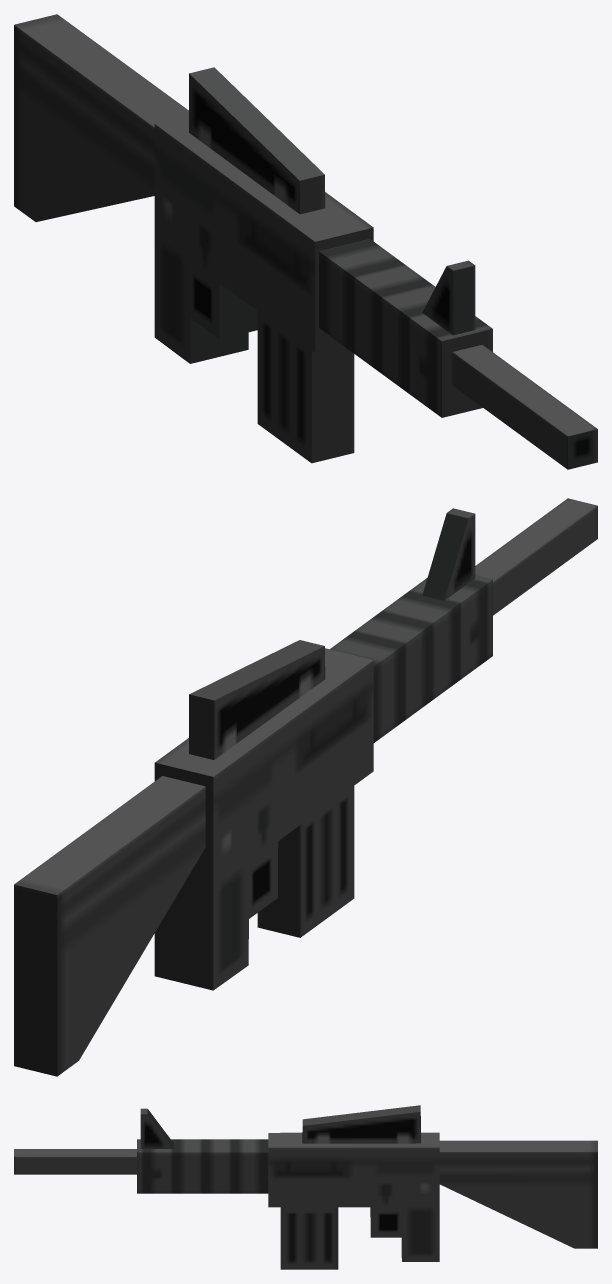
Rendered from SM_Wep_M5_01.fbx.
3 views of the same model, one above another, from view 1: azimuth 30°, elevation 25°; view 2: azimuth 150°, elevation 25°; view 3: azimuth 270°, elevation 25° (orthographic). The views are drawn at different scales.
Visible parts, largest first — view 1: SM_Wep_M5_01; view 2: SM_Wep_M5_01; view 3: SM_Wep_M5_01.
Boxes of the visible parts, x1=… form: SM_Wep_M5_01: x1=14, y1=14, x2=597, y2=469; SM_Wep_M5_01: x1=14, y1=498, x2=597, y2=1076; SM_Wep_M5_01: x1=14, y1=1105, x2=597, y2=1269.
Bounding box in the file's own units: 12.57 × 59.82 × 203.
